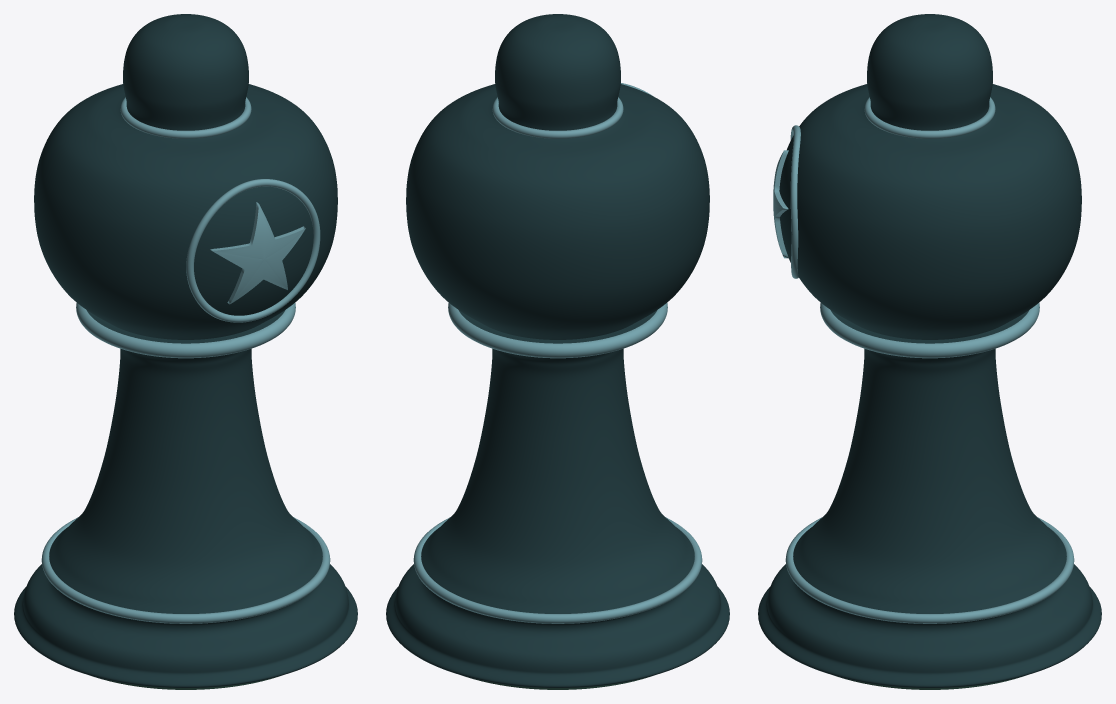
The model's file is General.glb.
3 renders of one model, left to right at view 1: azimuth 30°, elevation 25°; view 2: azimuth 150°, elevation 25°; view 3: azimuth 270°, elevation 25°, orthographic.
Visible parts, largest first — view 1: base, upper_body, base_bead, collar_bead, medallion_star, medallion_ring, neck_bead, collar_disc; view 2: base, upper_body, base_bead, collar_bead, neck_bead, collar_disc; view 3: base, upper_body, base_bead, collar_bead, neck_bead, medallion_ring, collar_disc, medallion_star.
Part boxes in pixels (x1=…): base: x1=14, y1=349, x2=357, y2=687; upper_body: x1=34, y1=14, x2=337, y2=339; base_bead: x1=41, y1=517, x2=330, y2=623; collar_bead: x1=76, y1=303, x2=295, y2=358; medallion_star: x1=210, y1=202, x2=305, y2=304; medallion_ring: x1=186, y1=179, x2=320, y2=322; neck_bead: x1=120, y1=97, x2=251, y2=138; collar_disc: x1=86, y1=310, x2=285, y2=343; base: x1=386, y1=349, x2=729, y2=687; upper_body: x1=406, y1=14, x2=709, y2=339; base_bead: x1=413, y1=517, x2=702, y2=623; collar_bead: x1=448, y1=303, x2=667, y2=358; neck_bead: x1=492, y1=97, x2=623, y2=138; collar_disc: x1=458, y1=310, x2=657, y2=343; base: x1=758, y1=349, x2=1101, y2=687; upper_body: x1=779, y1=14, x2=1081, y2=339; base_bead: x1=785, y1=517, x2=1074, y2=623; collar_bead: x1=820, y1=303, x2=1039, y2=358; neck_bead: x1=864, y1=97, x2=995, y2=138; medallion_ring: x1=790, y1=125, x2=800, y2=278; collar_disc: x1=830, y1=310, x2=1029, y2=343; medallion_star: x1=773, y1=150, x2=788, y2=258.
Size of the model in its own units: 0.0488 by 0.0943 by 0.0488.
